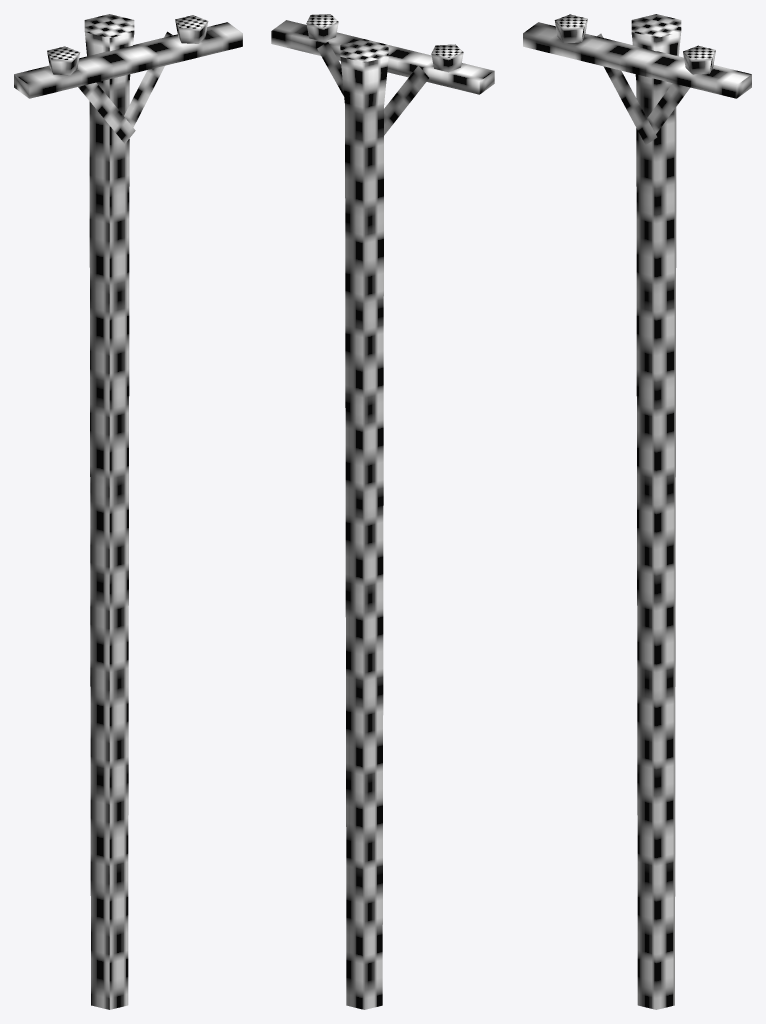
Rendered from Poste_Electrico_01.obj.
The picture shows the model from 3 angles, left to right: view 1: azimuth 30°, elevation 25°; view 2: azimuth 150°, elevation 25°; view 3: azimuth 330°, elevation 25°; orthographic projection. The views are drawn at different scales.
Parts seen in each view (by area): view 1: poste_electrico_01; view 2: poste_electrico_01; view 3: poste_electrico_01.
Boxes of the visible parts, x1,y1,x2,y2 form: poste_electrico_01: (14, 14, 242, 1009); poste_electrico_01: (271, 14, 494, 1009); poste_electrico_01: (523, 14, 751, 1009).
Bounding box in the file's own units: 16.49 × 72.1 × 5.37.
Materials: 1 (1 with a texture image).
